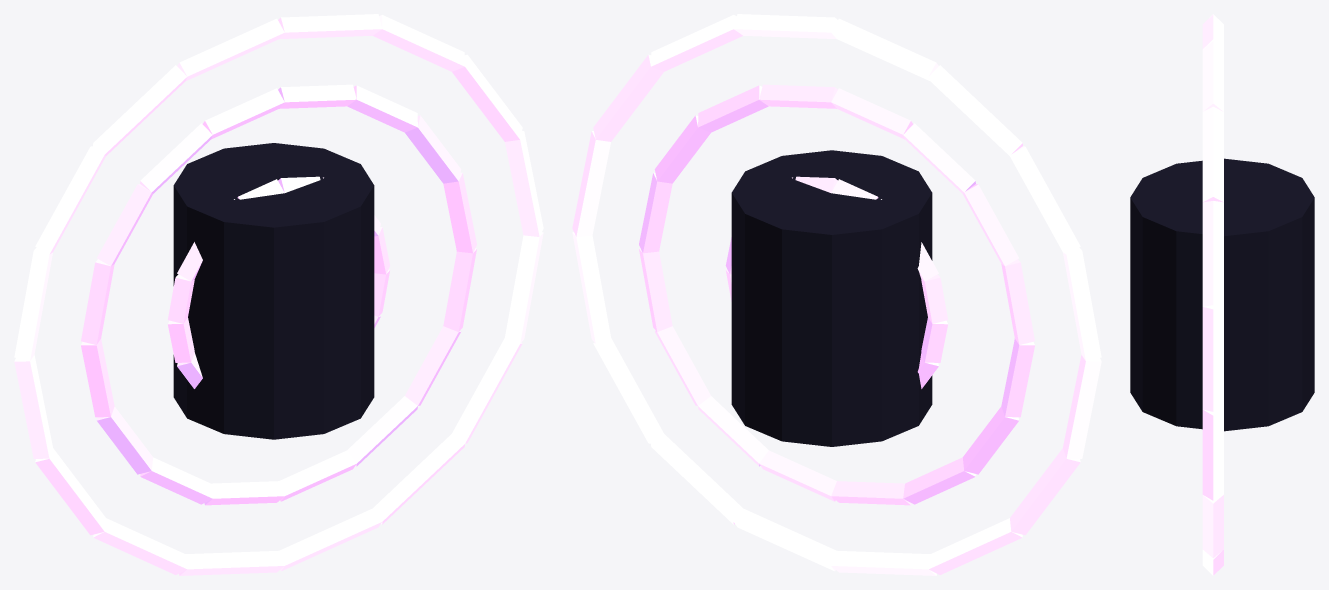
File: singularity.glb
3 renders of one model, left to right at view 1: azimuth 30°, elevation 25°; view 2: azimuth 150°, elevation 25°; view 3: azimuth 270°, elevation 25°, orthographic. The views are drawn at different scales.
Parts seen in each view (by area): view 1: Singularity dimensional effect.001; view 2: Singularity dimensional effect.001; view 3: Singularity dimensional effect.001.
Boxes of the visible parts, <box> form: Singularity dimensional effect.001: <box>14,14,543,575</box>; Singularity dimensional effect.001: <box>572,14,1101,575</box>; Singularity dimensional effect.001: <box>1130,14,1314,575</box>.
Size of the model in its own units: 1.83 by 1.83 by 0.6.
